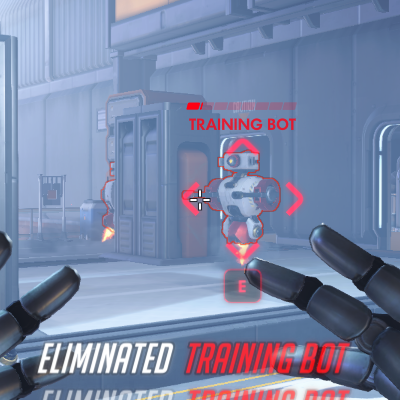hpbar: (186, 102, 297, 110)
